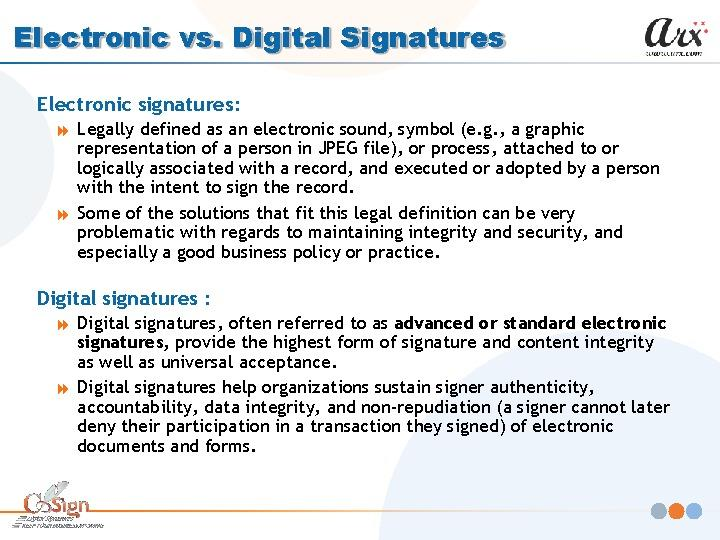paragraph: (50, 116, 680, 269), (50, 311, 683, 463)
subtitle: (32, 88, 245, 116), (32, 282, 217, 313)
title: (10, 19, 517, 60)
